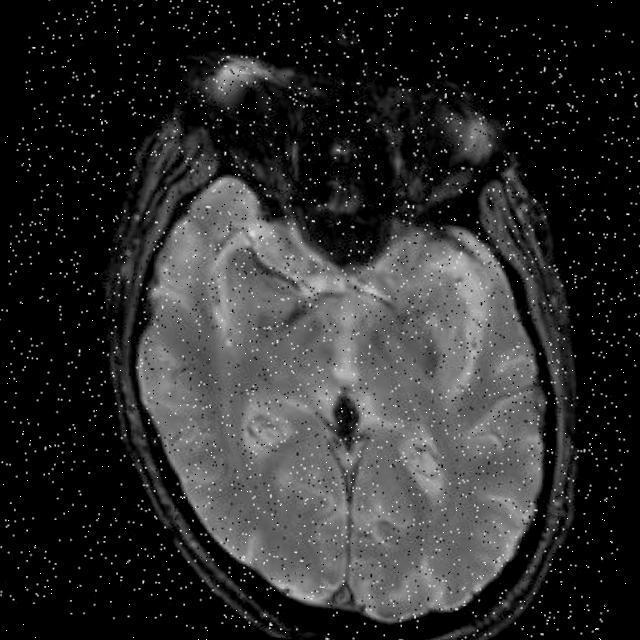LMCI: (206, 229, 320, 321), (385, 294, 472, 388)
